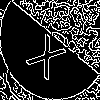X: (25, 25, 73, 81)
